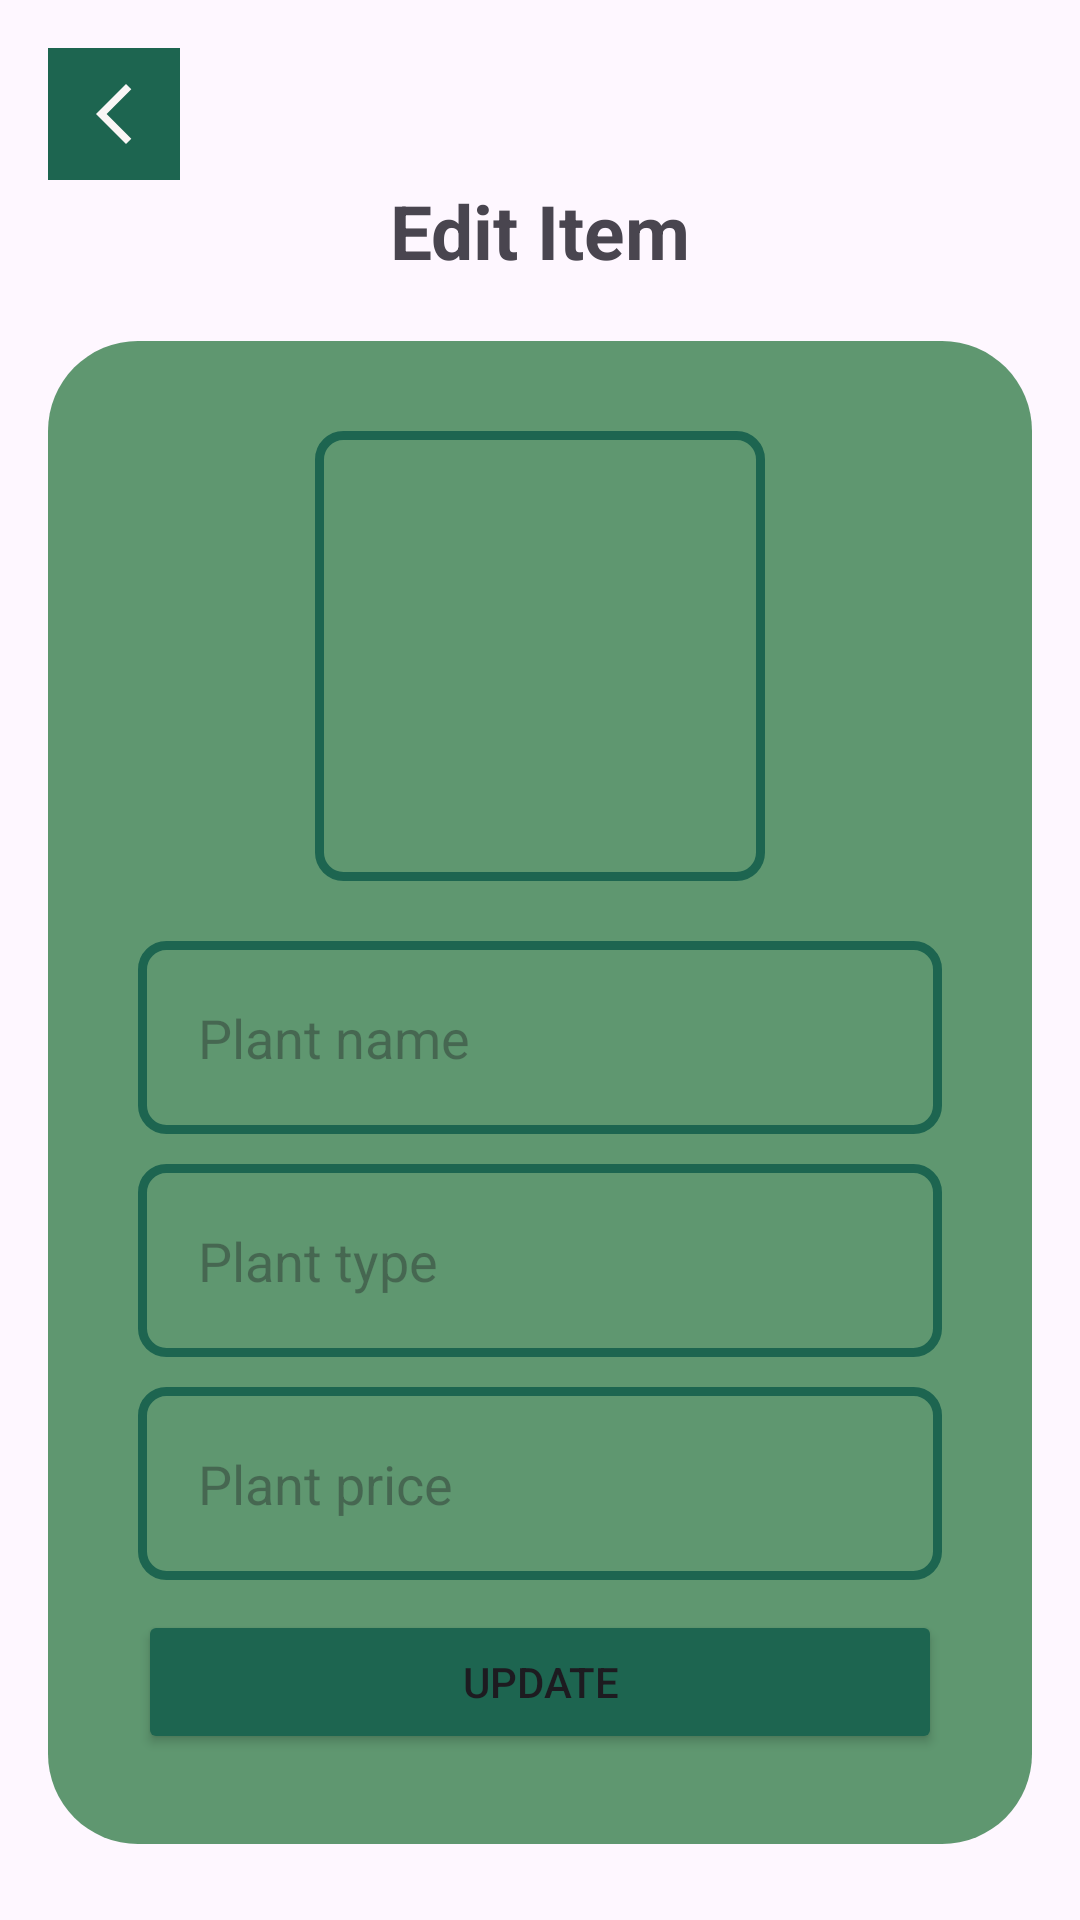

Locate icon controls on the screen. Image size 1080×1920, boxes as box(x1, y1, x2, y2).
back: box(48, 48, 180, 180)
